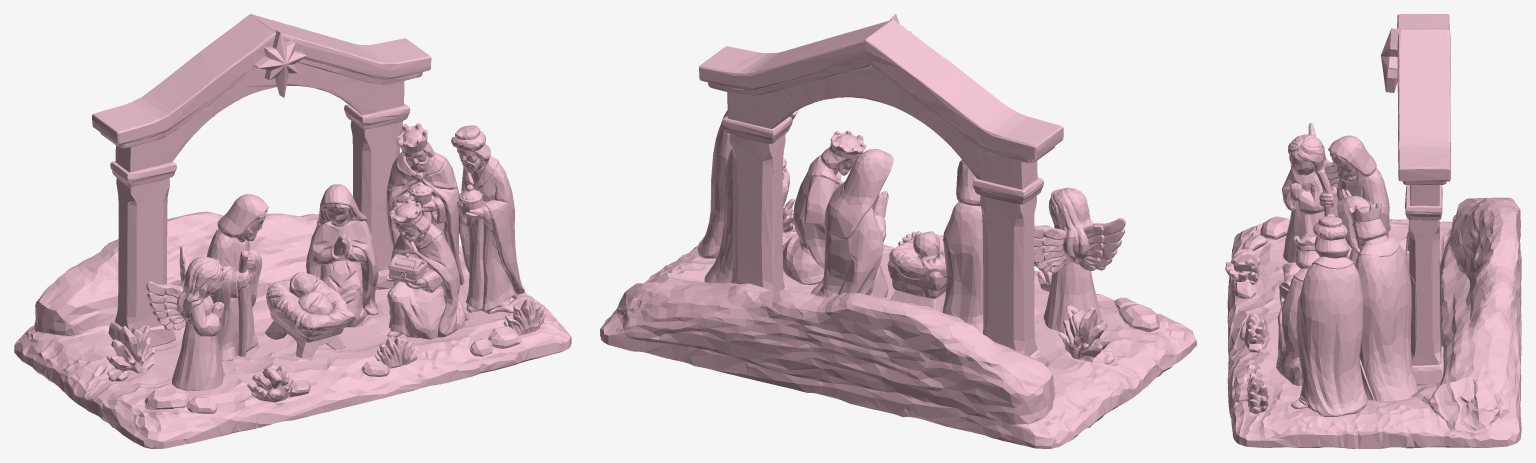
Rendered from diorama-nacimiento-jesus.glb.
3 views of the same model, side by side, from view 1: azimuth 30°, elevation 25°; view 2: azimuth 150°, elevation 25°; view 3: azimuth 270°, elevation 25° (orthographic). The views are drawn at different scales.
Parts seen in each view (by area): view 1: pieza; view 2: pieza; view 3: pieza.
Boxes of the visible parts, x1,y1,x2,y2 form: pieza: [14, 14, 571, 448]; pieza: [600, 14, 1196, 448]; pieza: [1225, 14, 1521, 448].
Size of the model in its own units: 0.0958 by 0.065 by 0.0561.
